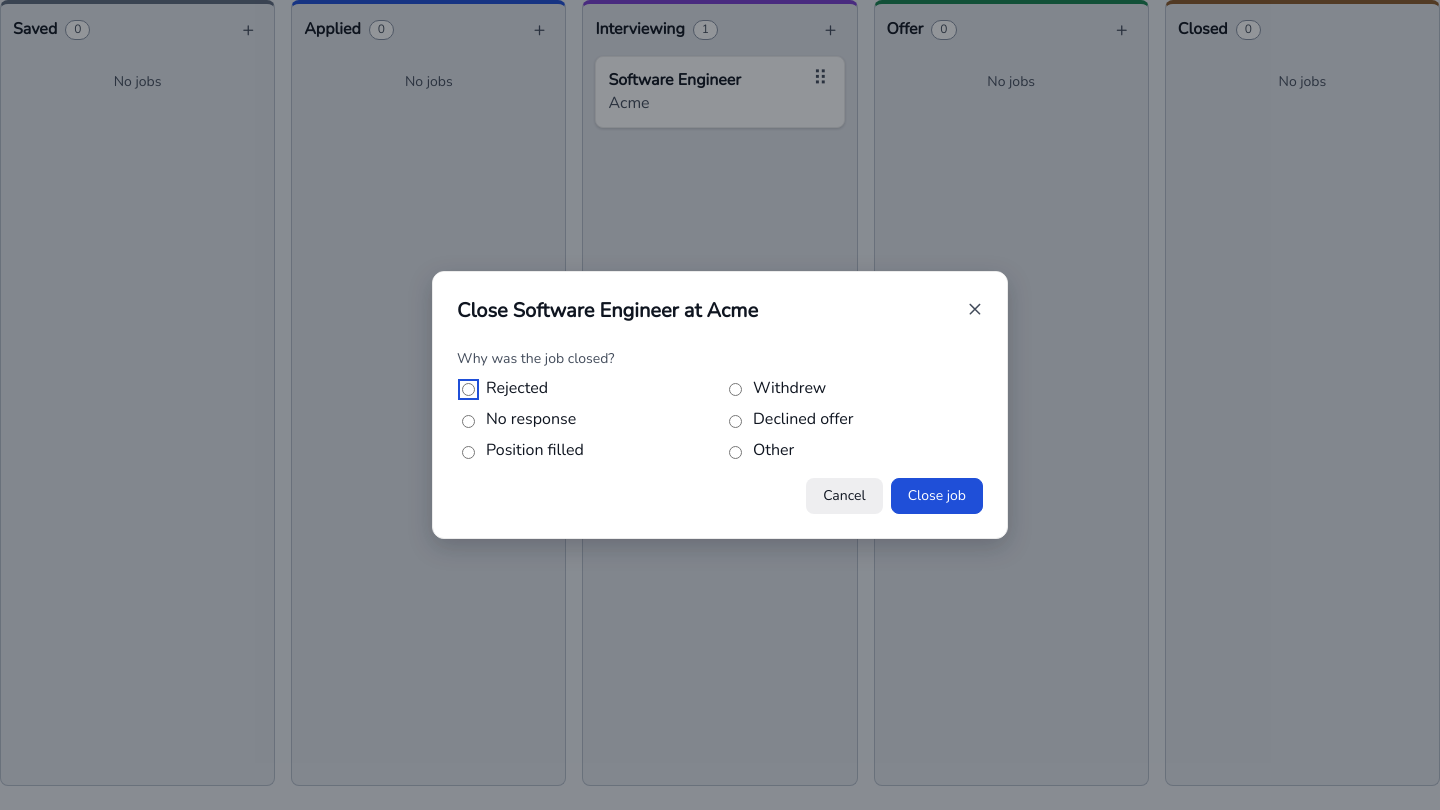
Scenario: Board › closing a job › asks for a reason and closes with rejected
The width and height of the screenshot is (1440, 810).
Click the radio button labelled "Rejected": (468, 390) [462,384,475,396]
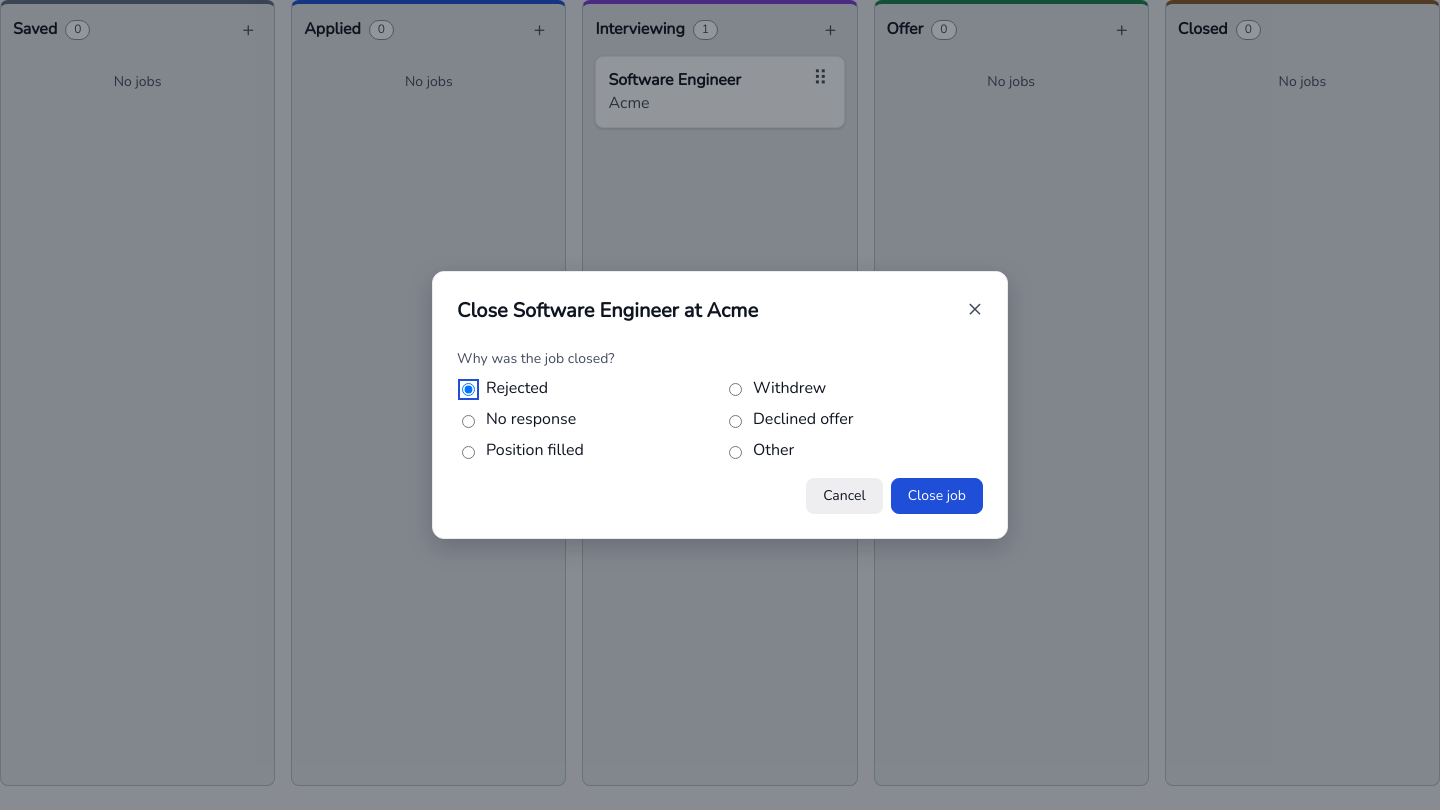
Click the button "Close job": (937, 496) [891,478,983,514]
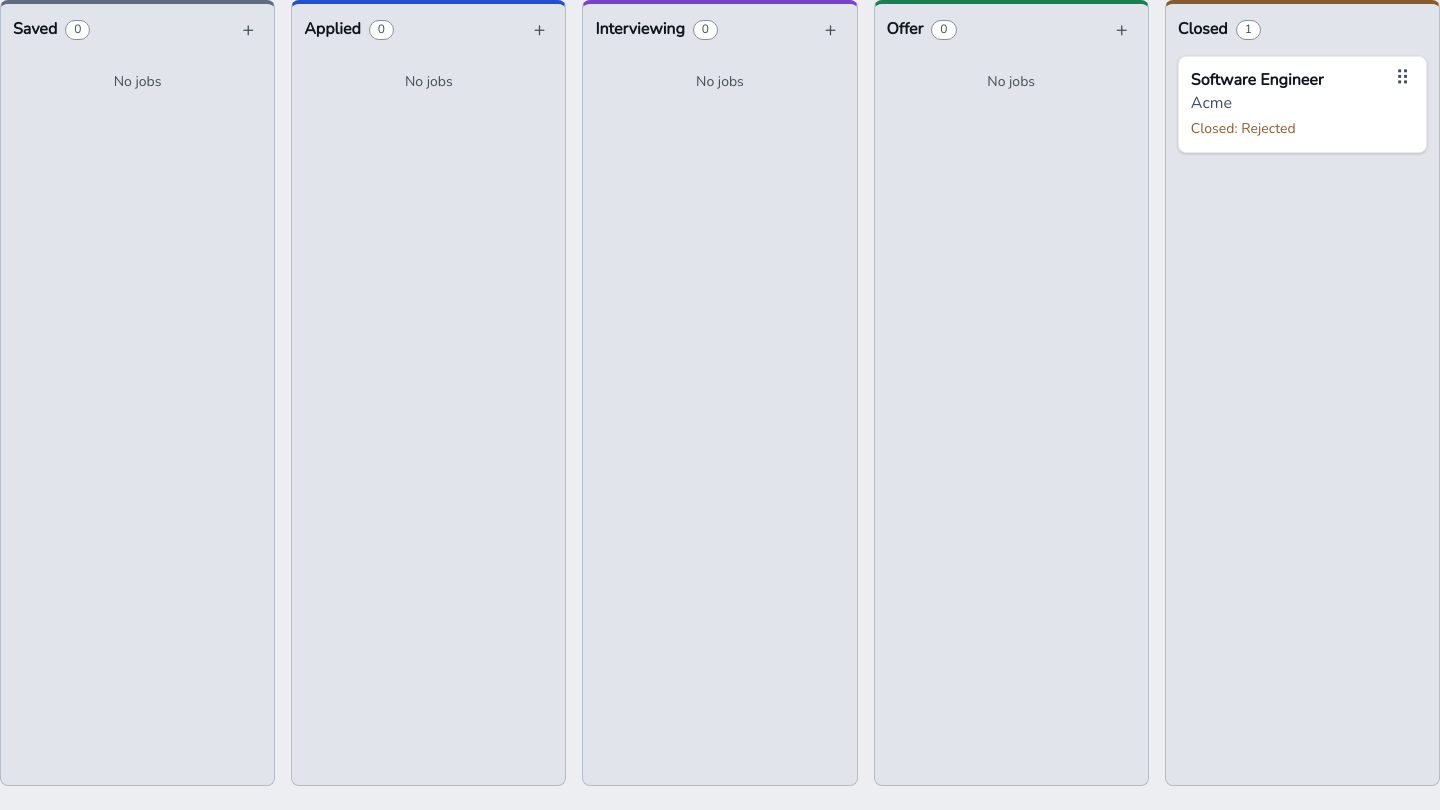
Now the text "Closed: Rejected" is shown, box [1191,119,1296,138]
Now the dialog is gone
